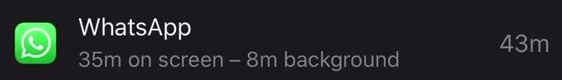name: (71, 6, 200, 43)
time: (74, 44, 125, 76), (243, 42, 281, 77)
